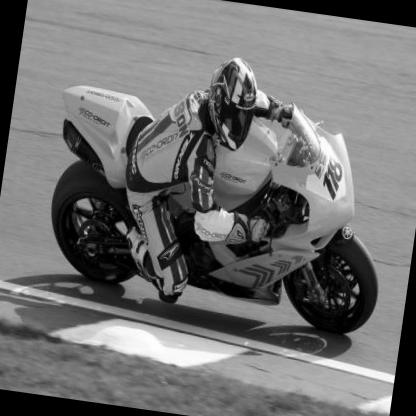moto: (23, 39, 413, 351)
